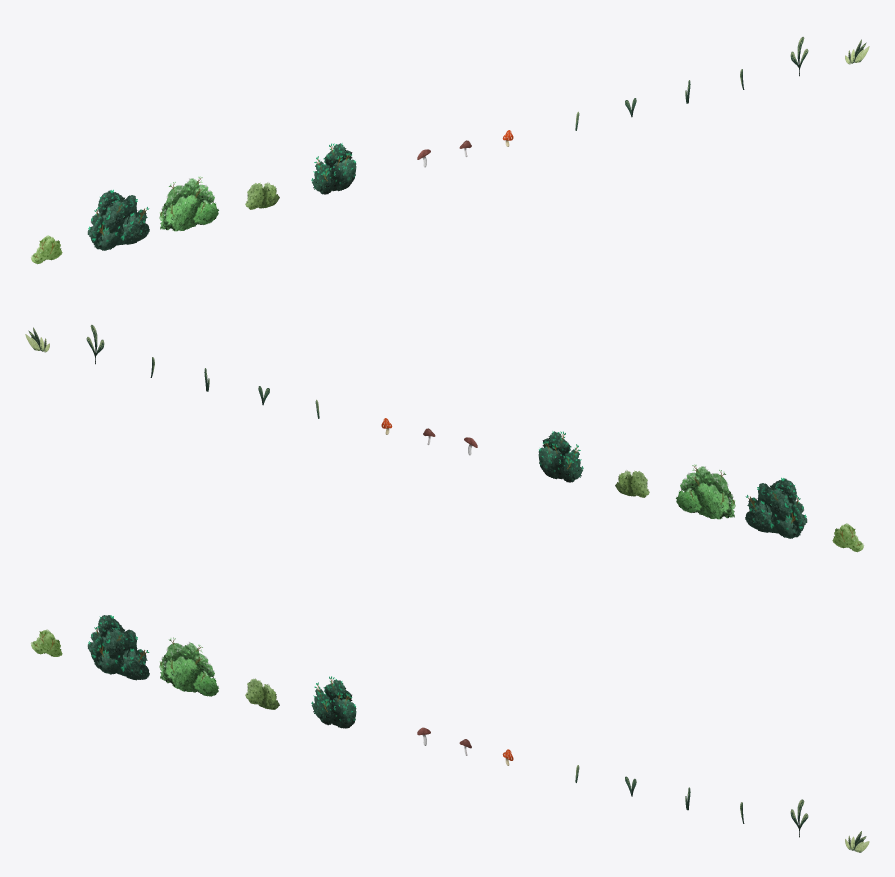
File: vegetation.glb
The picture shows the model from 3 angles, top to bottom: view 1: azimuth 30°, elevation 25°; view 2: azimuth 150°, elevation 25°; view 3: azimuth 330°, elevation 25°; orthographic projection.
Visible parts, largest first — view 1: bush_2, bush_3, bush_5, bush_4, bush_1; view 2: bush_2, bush_3, bush_5, bush_4, bush_1; view 3: bush_2, bush_3, bush_5, bush_4, bush_1.
Part boxes in pixels (x1,y1,x2,y2): bush_2: (87,189,149,250); bush_3: (159,176,218,231); bush_5: (311,143,356,194); bush_4: (245,181,279,209); bush_1: (30,235,62,264); bush_2: (745,477,807,538); bush_3: (676,464,735,519); bush_5: (538,431,583,482); bush_4: (615,469,649,497); bush_1: (832,523,864,552); bush_2: (87,615,149,680); bush_3: (159,637,218,696); bush_5: (311,676,356,728); bush_4: (245,678,279,709); bush_1: (30,629,62,656).
Size of the model in its own units: 17.01 by 1.16 by 4.83e-07.
14 materials, 14 textured.
